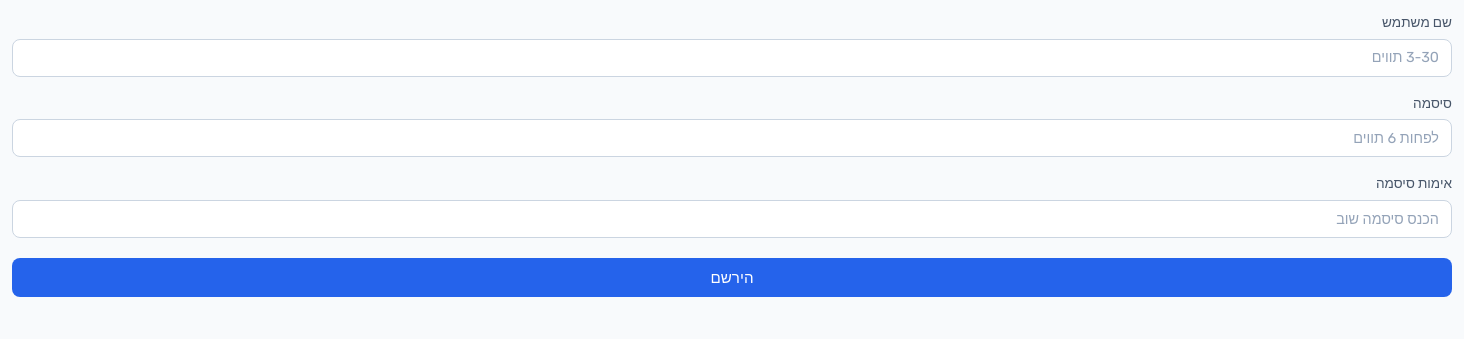
Test: RegisterForm › shows validation error for short username
This screenshot has width=1464, height=339.
Type "ab" into the field labelled "שם משתמש" at point(732, 58), box left=12, top=38, right=1452, bottom=77
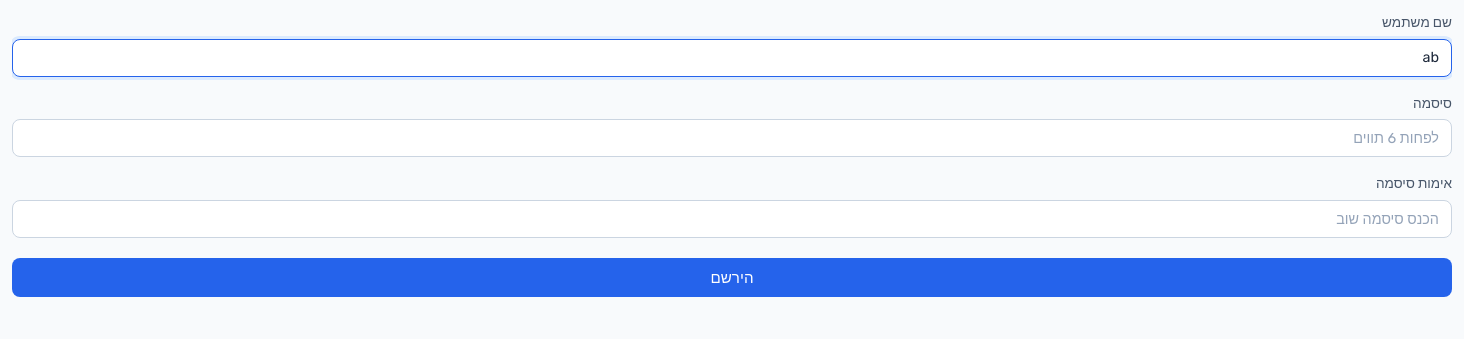
Leave the field labelled "שם משתמש", box left=12, top=38, right=1452, bottom=77
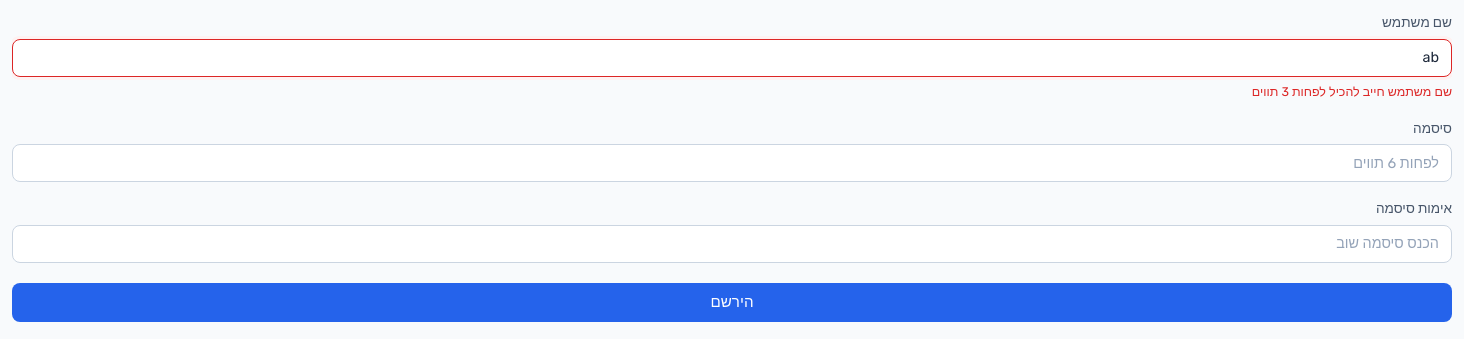
Expected: the text "שם משתמש חייב להכיל לפחות 3 תווים" is shown, left=1252, top=84, right=1452, bottom=98
